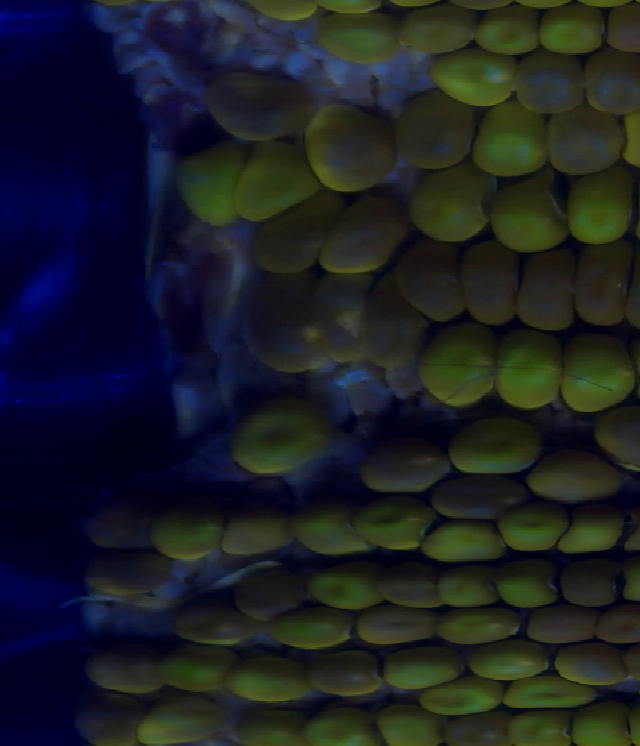fluorescent: (234, 397, 328, 471), (487, 179, 577, 256), (568, 171, 638, 255), (450, 413, 547, 469), (495, 331, 567, 405), (176, 145, 239, 229), (238, 149, 318, 214), (225, 647, 310, 708), (425, 331, 495, 405), (570, 339, 637, 408), (415, 175, 482, 240), (322, 14, 405, 65), (353, 500, 429, 555), (428, 52, 509, 100), (384, 643, 463, 691), (473, 110, 537, 168), (155, 500, 219, 558), (496, 504, 566, 555), (150, 695, 219, 746), (471, 7, 541, 56), (503, 673, 593, 711), (539, 8, 609, 56), (371, 700, 443, 746), (299, 494, 353, 555), (313, 559, 379, 608), (271, 605, 358, 642), (166, 643, 224, 694), (422, 518, 496, 556), (308, 708, 382, 746), (439, 560, 493, 611), (441, 605, 510, 643), (564, 504, 618, 552), (416, 679, 505, 708), (496, 566, 550, 611), (473, 650, 548, 679), (574, 708, 625, 746), (509, 711, 559, 746)
nonfluorescent: (213, 65, 316, 146), (312, 102, 392, 187), (328, 197, 410, 275), (397, 92, 473, 173), (310, 269, 368, 373), (516, 247, 579, 331), (225, 491, 303, 558), (226, 565, 313, 624), (461, 240, 518, 330), (87, 472, 153, 549), (355, 440, 447, 494), (251, 285, 305, 376), (366, 273, 419, 363), (548, 116, 625, 173), (409, 240, 461, 321), (171, 597, 251, 649), (579, 246, 628, 327), (529, 458, 615, 504), (263, 210, 325, 271), (87, 642, 161, 691), (579, 53, 640, 111), (438, 478, 518, 521), (86, 556, 168, 595), (521, 58, 579, 113), (551, 646, 631, 685), (596, 404, 640, 471), (305, 653, 377, 691), (555, 563, 619, 605), (374, 563, 434, 607), (357, 610, 428, 645), (441, 711, 511, 746), (79, 697, 132, 743), (528, 608, 599, 642), (602, 597, 640, 645), (608, 4, 640, 45)
